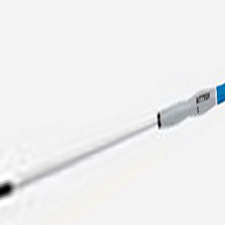Screwdriver: (1, 77, 225, 203)
